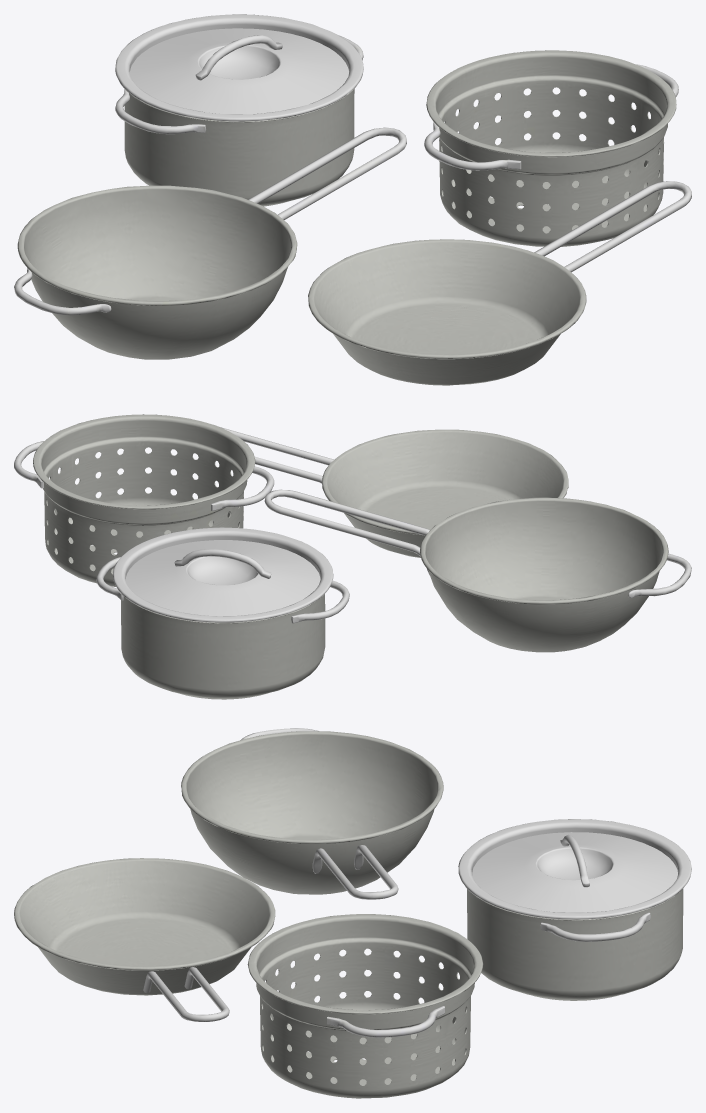
The model's file is duktig_zestaw_garnkow_do_zabawy_5_szt_00130167.glb.
3 renders of one model, top to bottom at view 1: azimuth 30°, elevation 25°; view 2: azimuth 150°, elevation 25°; view 3: azimuth 270°, elevation 25°, orthographic. The views are drawn at different scales.
Visible parts, largest first — view 1: duktig_zestaw_garnkow_do_zabawy_5_szt_00130167; view 2: duktig_zestaw_garnkow_do_zabawy_5_szt_00130167; view 3: duktig_zestaw_garnkow_do_zabawy_5_szt_00130167.
Boxes of the visible parts, x1,y1,x2,y2 form: duktig_zestaw_garnkow_do_zabawy_5_szt_00130167: (14, 14, 691, 385); duktig_zestaw_garnkow_do_zabawy_5_szt_00130167: (14, 414, 691, 699); duktig_zestaw_garnkow_do_zabawy_5_szt_00130167: (14, 728, 691, 1098).
Bounding box in the file's own units: 0.3925 × 0.0712 × 0.3522.
5 materials, 5 textured.
